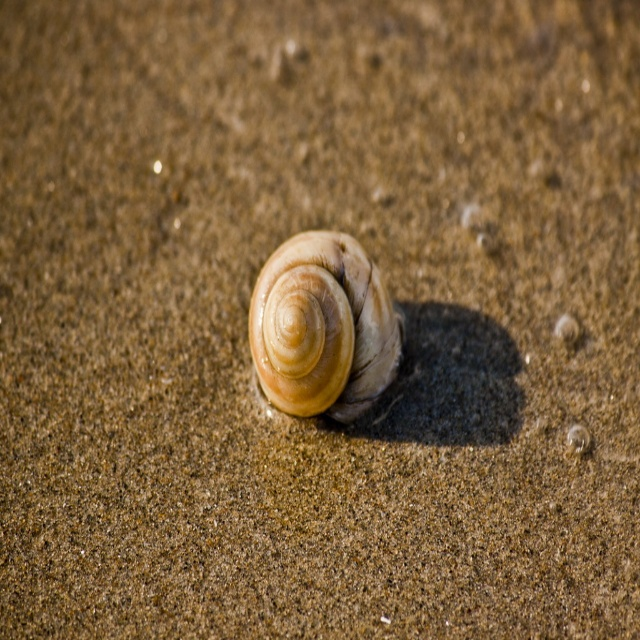Snail: (246, 230, 407, 426)
